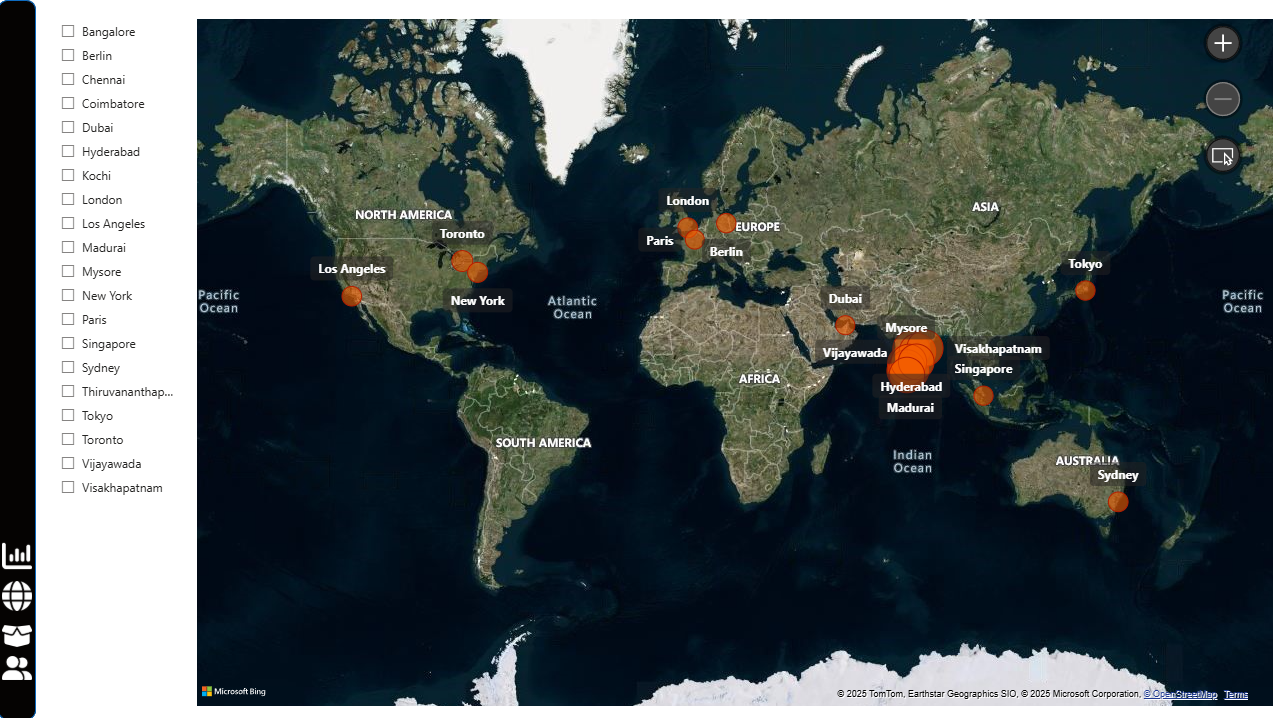

This screenshot's page, from the dashboard's own definition file:
{"tool":"powerbi","page":{"name":"Geo Map","canvas":[1280,720],"ordinal":1},"visuals":[{"type":"shape","title":"Navigation BG","box":[0,0,37.8,720],"z":0},{"type":"actionButton","box":[0,535.6,37.8,40],"z":0,"group":"g1"},{"type":"map","fields":{"Size":["Measure Table.Total Revenue"],"Category":["customers.City"]},"box":[194.3,13.6,1085.2,697.7],"z":1000},{"type":"actionButton","box":[0,647.8,37.8,40],"z":1000,"group":"g1"},{"type":"slicer","fields":{"Values":["customers.City"]},"box":[51.1,13.6,135.2,679.5],"z":2000},{"type":"actionButton","box":[0,575.6,37.8,40],"z":2000,"group":"g1"},{"type":"group","id":"g1","title":"Group 1","box":[0,535.6,37.8,152.2],"z":3000},{"type":"actionButton","box":[0,615.6,37.8,40],"z":3000,"group":"g1"}]}

Visuals, with their boxes on the page's 1280x720 design canvas (x1, y1, x2, y2). These are canvas units, not pixel positions in the 1277x718 screenshot, which may show the page scaled, cropped or inside an application window:
"Navigation BG" shape: box=[0, 0, 38, 720]
actionButton: box=[0, 536, 38, 576]
map - Measure Table.Total Revenue x customers.City: box=[194, 14, 1280, 711]
actionButton: box=[0, 648, 38, 688]
slicer - customers.City: box=[51, 14, 186, 693]
actionButton: box=[0, 576, 38, 616]
"Group 1" group: box=[0, 536, 38, 688]
actionButton: box=[0, 616, 38, 656]
